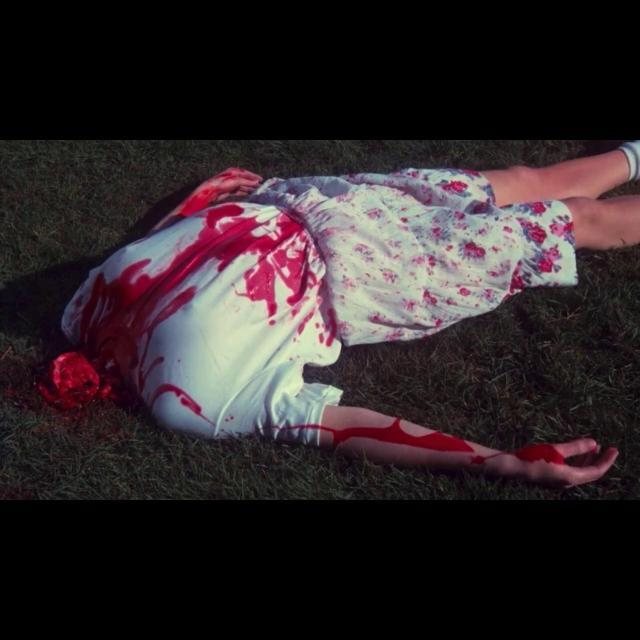blood: (80, 202, 336, 384), (290, 405, 620, 487), (151, 168, 262, 233), (38, 352, 112, 409), (148, 382, 220, 431)
